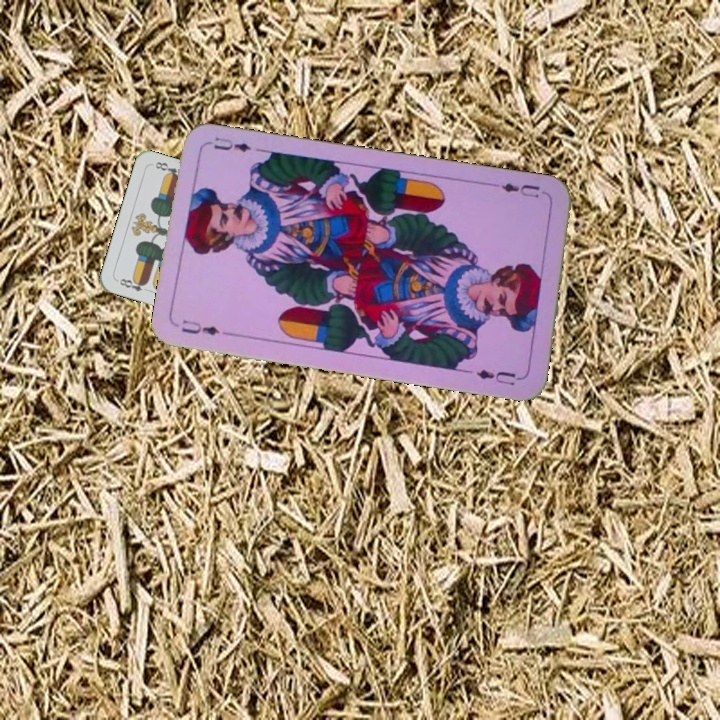E8: (113, 274, 153, 295)
EU: (177, 315, 234, 339), (490, 178, 543, 201)
